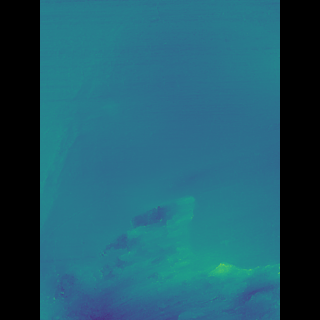Loch: (72, 189, 249, 320)
